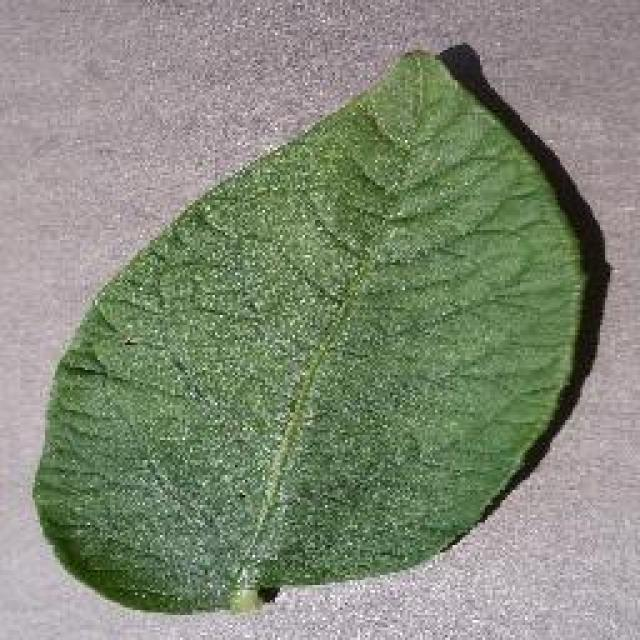Potato___healthy: (31, 49, 591, 613)
